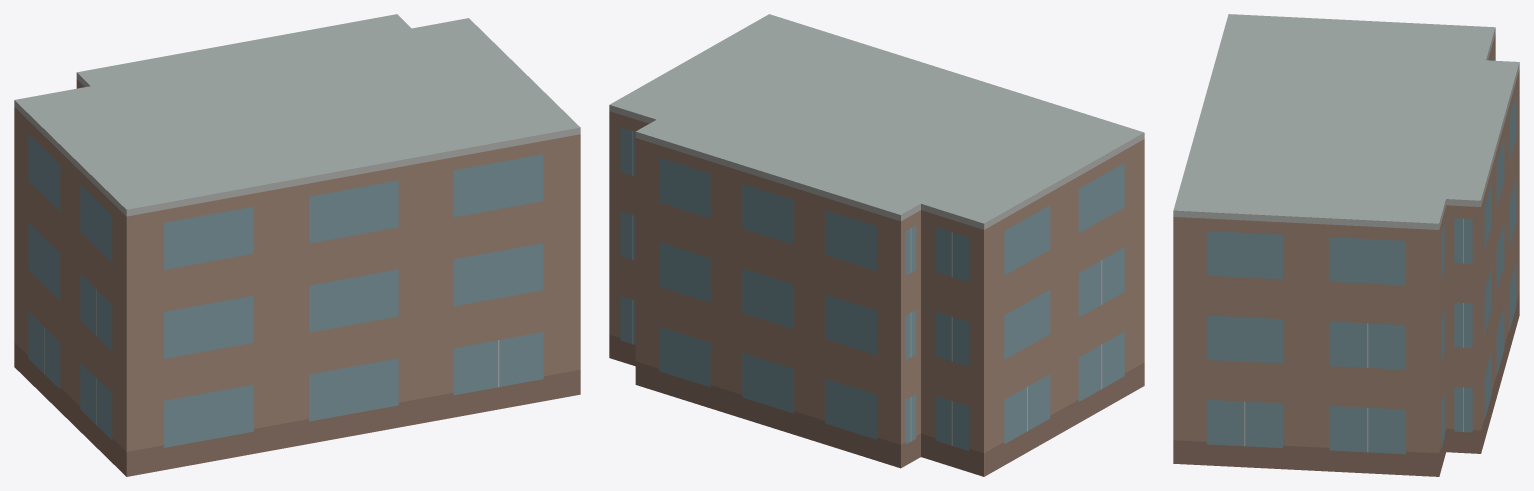
The model's file is survey-upis-32808841.glb.
3 renders of one model, left to right at view 1: azimuth 30°, elevation 25°; view 2: azimuth 150°, elevation 25°; view 3: azimuth 270°, elevation 25°, orthographic. The views are drawn at different scales.
Visible parts, largest first — view 1: survey-upis-32808841.tmp; view 2: survey-upis-32808841.tmp; view 3: survey-upis-32808841.tmp.
Part boxes in pixels (x1,y1,x2,y2): survey-upis-32808841.tmp: (14,14,580,476); survey-upis-32808841.tmp: (609,14,1144,476); survey-upis-32808841.tmp: (1173,14,1519,476).
Bounding box in the file's own units: 17.43 × 9.8 × 12.16.
